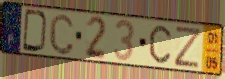2: (84, 15, 108, 61)
3: (113, 18, 137, 63)
C: (48, 12, 75, 57), (148, 24, 173, 66)
D: (21, 7, 50, 54)
Z: (173, 24, 204, 70)
